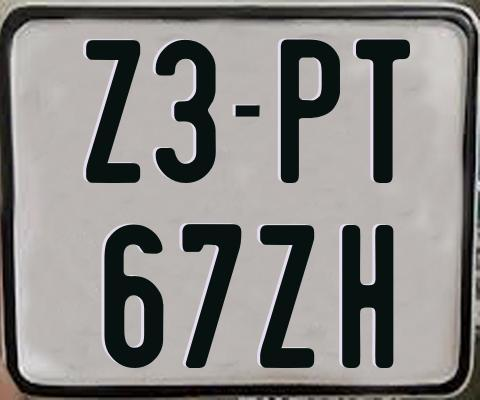3: (153, 39, 217, 184)
6: (103, 223, 165, 371)
7: (179, 221, 242, 369)
H: (342, 224, 400, 368)
P: (281, 39, 341, 187)
T: (353, 37, 412, 186)
Z: (84, 38, 141, 184), (258, 222, 312, 367)
